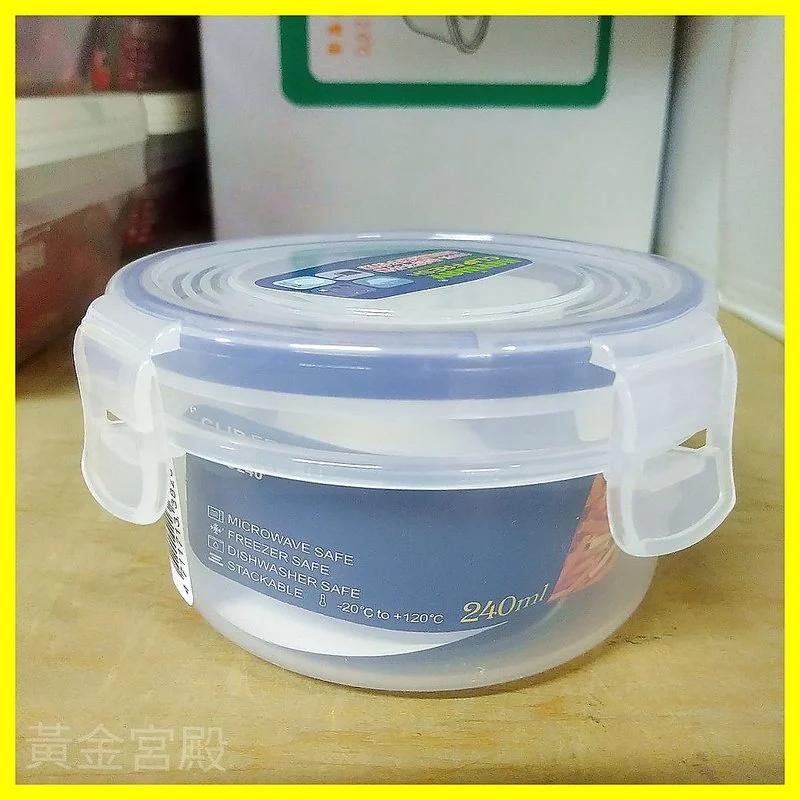plastic: (74, 233, 735, 690)
